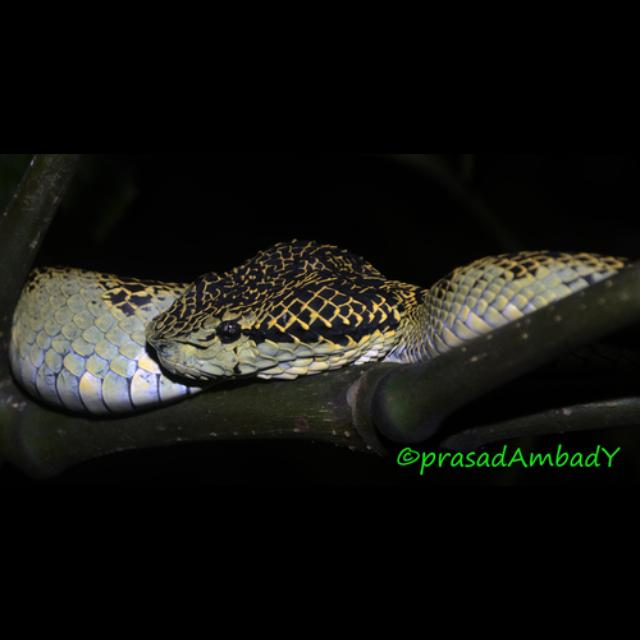snake: (8, 236, 638, 418)
